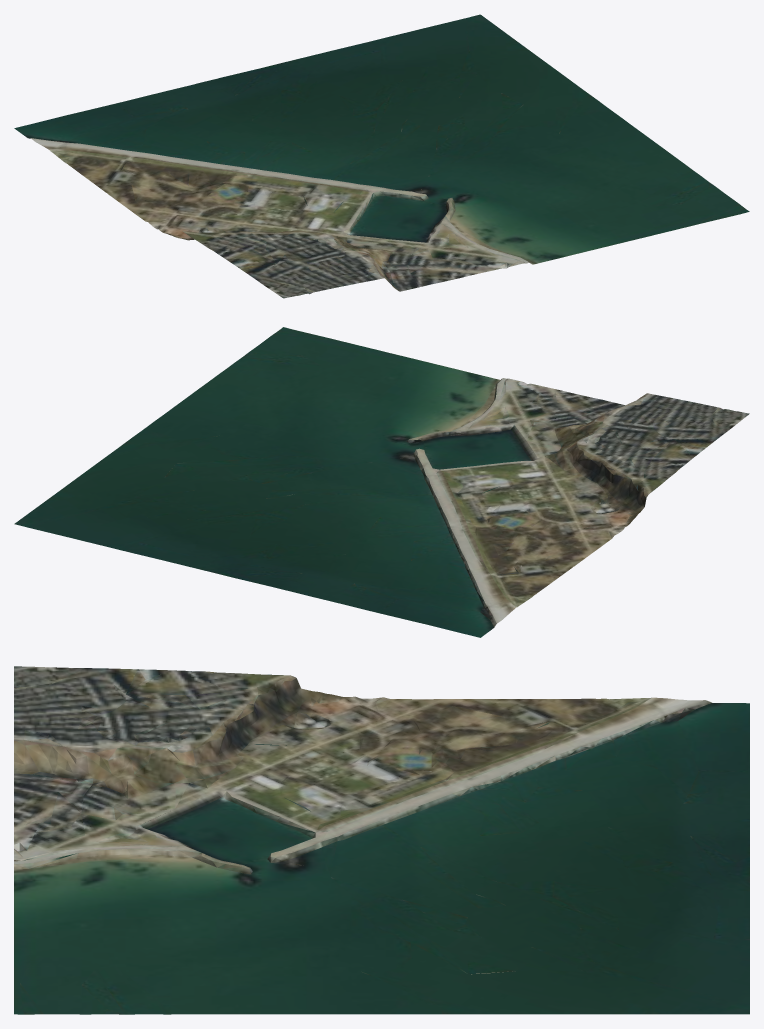
3 views of the same model, one above another, from view 1: azimuth 30°, elevation 25°; view 2: azimuth 150°, elevation 25°; view 3: azimuth 270°, elevation 25° (orthographic). The views are drawn at different scales.
Bounding box in the file's own units: 836 × 46.77 × 836.
Materials: 3 (3 with a texture image).
